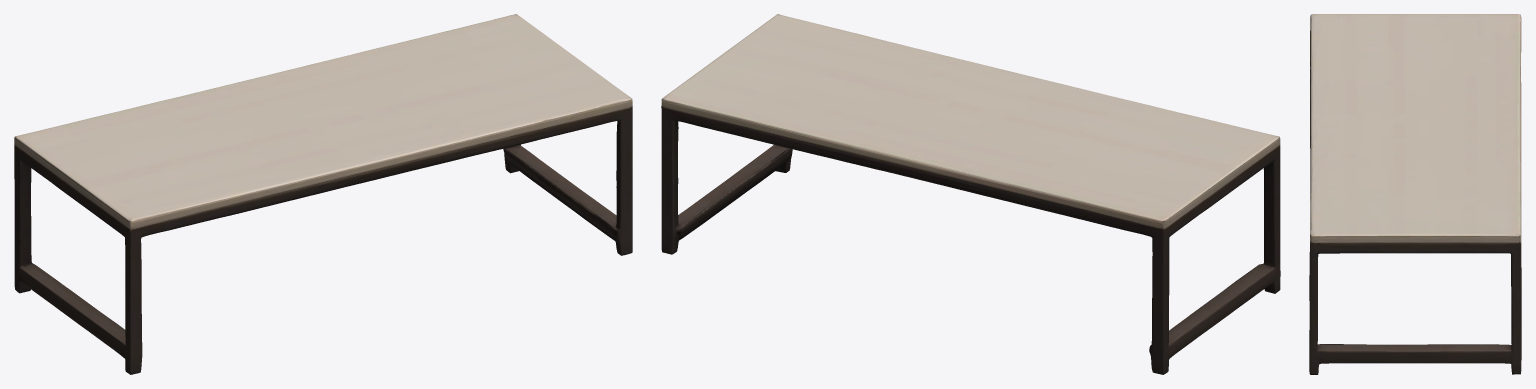
3 renders of one model, left to right at view 1: azimuth 30°, elevation 25°; view 2: azimuth 150°, elevation 25°; view 3: azimuth 270°, elevation 25°, orthographic. The views are drawn at different scales.
Visible parts, largest first — view 1: geometry_0; view 2: geometry_0; view 3: geometry_0.
Boxes of the visible parts, x1,y1,x2,y2 form: geometry_0: [14, 14, 632, 374]; geometry_0: [661, 14, 1280, 374]; geometry_0: [1309, 14, 1521, 374].
Size of the model in its own units: 1 by 0.2947 by 0.4041.
Materials: 1 (1 with a texture image).
